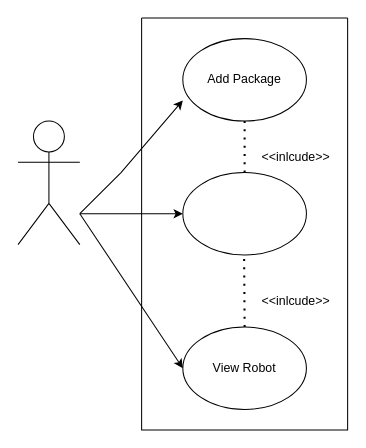
The diagram is 366 pixels wide and 448 high, and some of its shapes have lost their labels. The shapes that lost their labels are listed below. From the top down, each one's box as (x1, y1, x2, y2) in pixels, then its label:
(17, 120, 80, 245): User
(182, 171, 306, 255): Run Simulation
